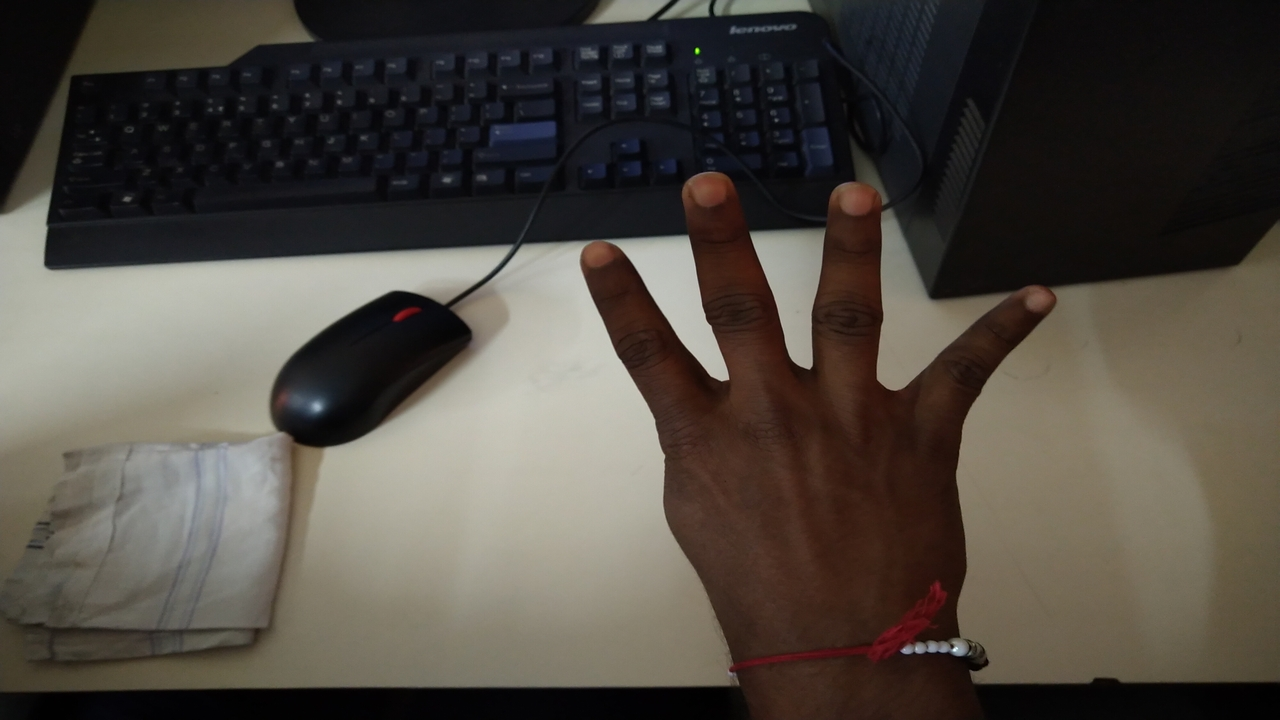fingertip: (1002, 270, 1074, 330), (570, 232, 636, 288), (676, 164, 744, 218), (824, 170, 886, 228)
